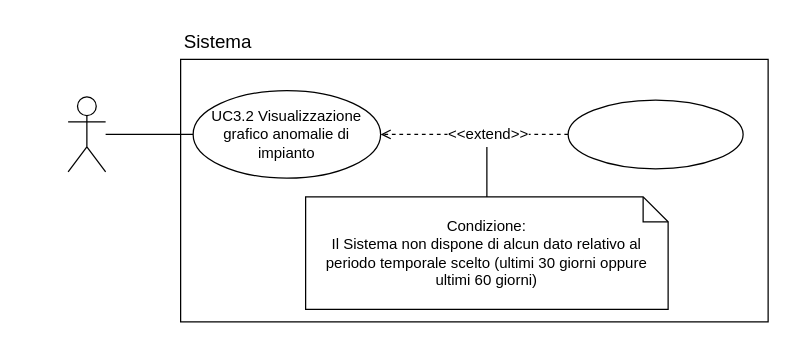
The diagram is 790 pixels wide and 344 high, and some of its shapes have lost their labels. The shapes that lost their labels are listed below. From the top down, each one's centre as x and y in pixels, then its label:
(86,134): Operatore Sanitario
(655,134): UC7 Errore dati insufficienti
